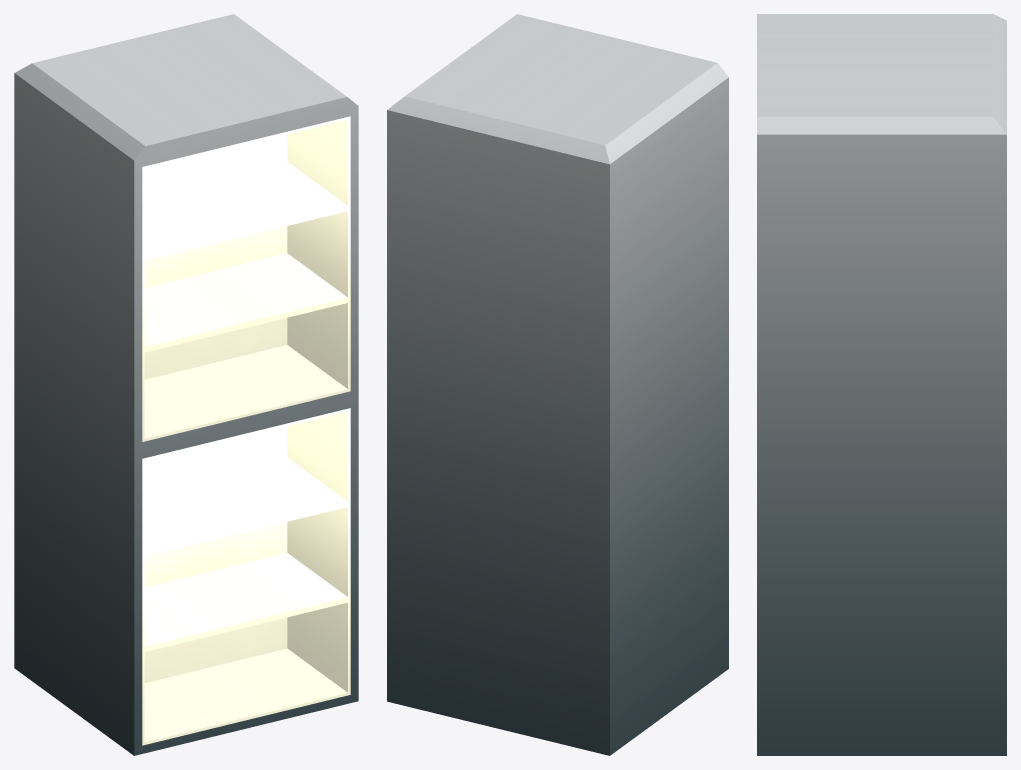
The model's file is FridgeFreezer.fbx.
3 renders of one model, left to right at view 1: azimuth 30°, elevation 25°; view 2: azimuth 150°, elevation 25°; view 3: azimuth 270°, elevation 25°, orthographic. The views are drawn at different scales.
Parts seen in each view (by area): view 1: FridgeFreezer; view 2: FridgeFreezer; view 3: FridgeFreezer.
Boxes of the visible parts, x1,y1,x2,y2 form: FridgeFreezer: [14, 14, 358, 755]; FridgeFreezer: [387, 14, 728, 755]; FridgeFreezer: [757, 14, 1006, 755].
Bounding box in the file's own units: 86 × 222 × 79.54.
